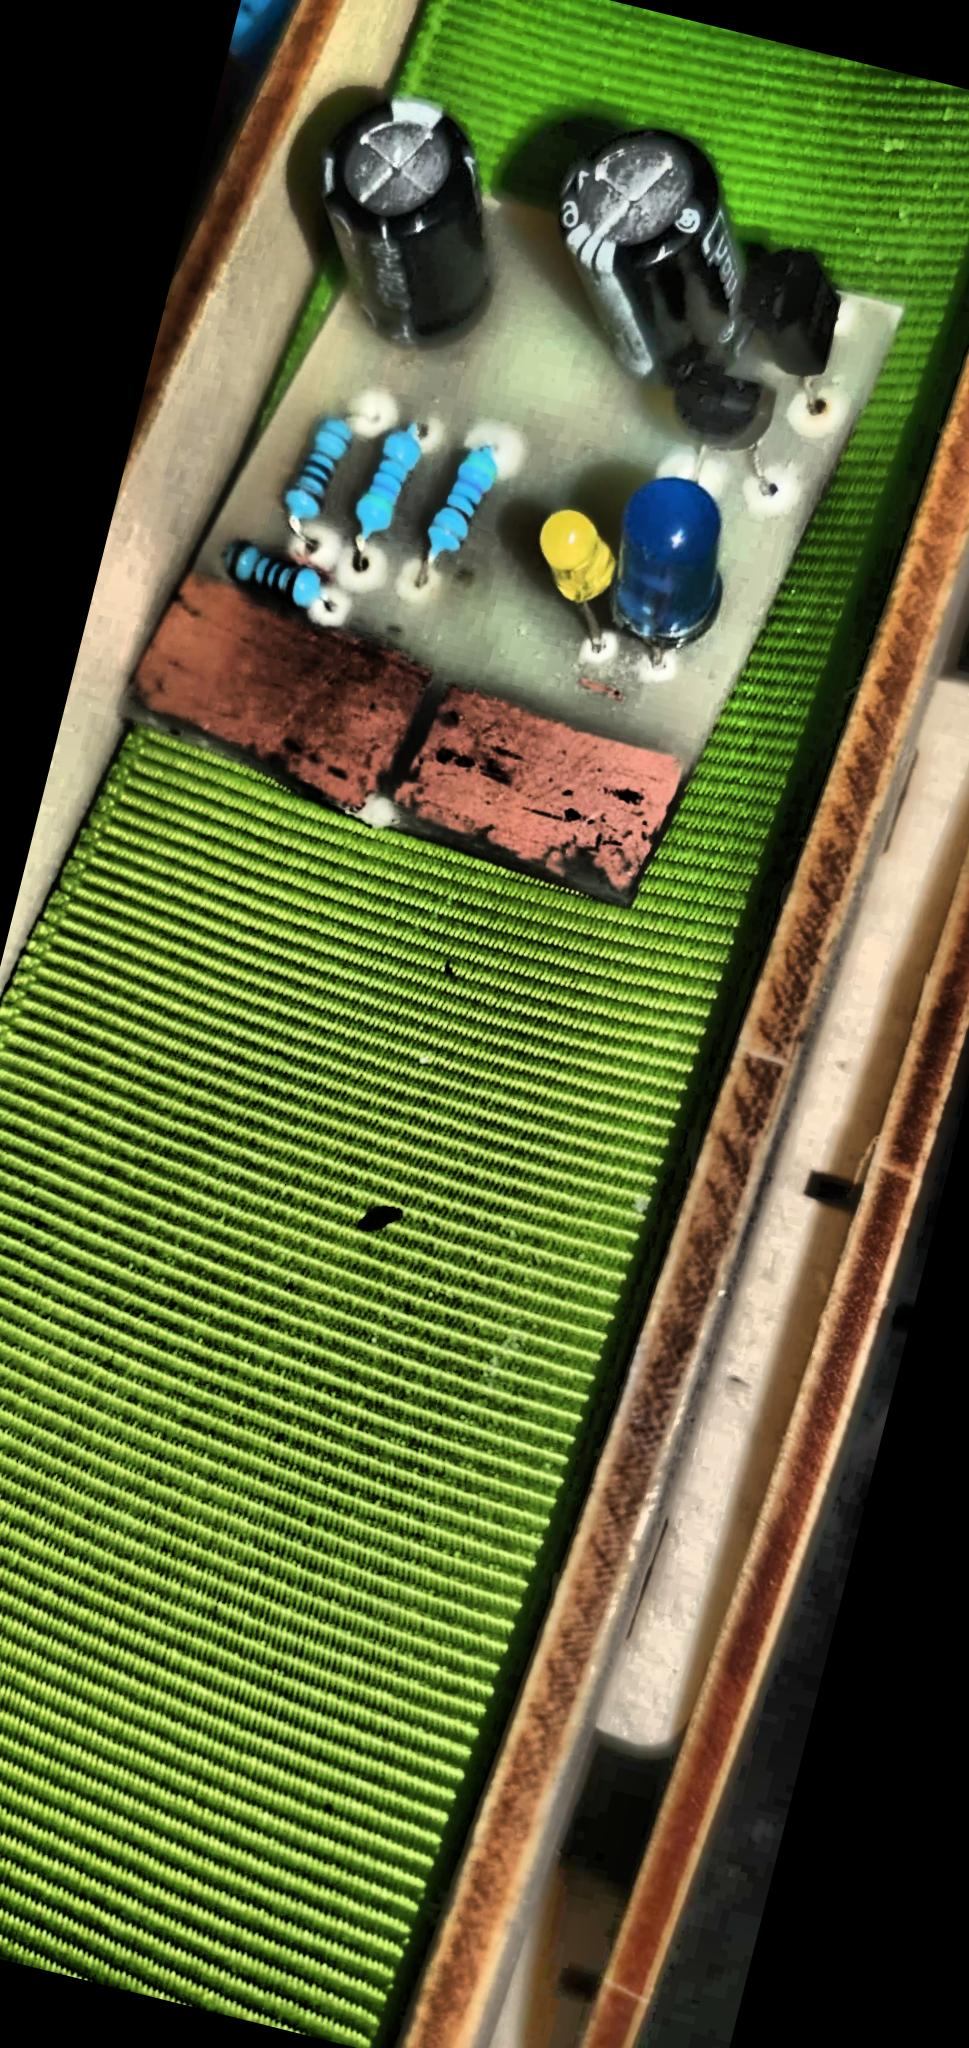IC: (85, 555, 428, 815), (387, 678, 708, 905)
